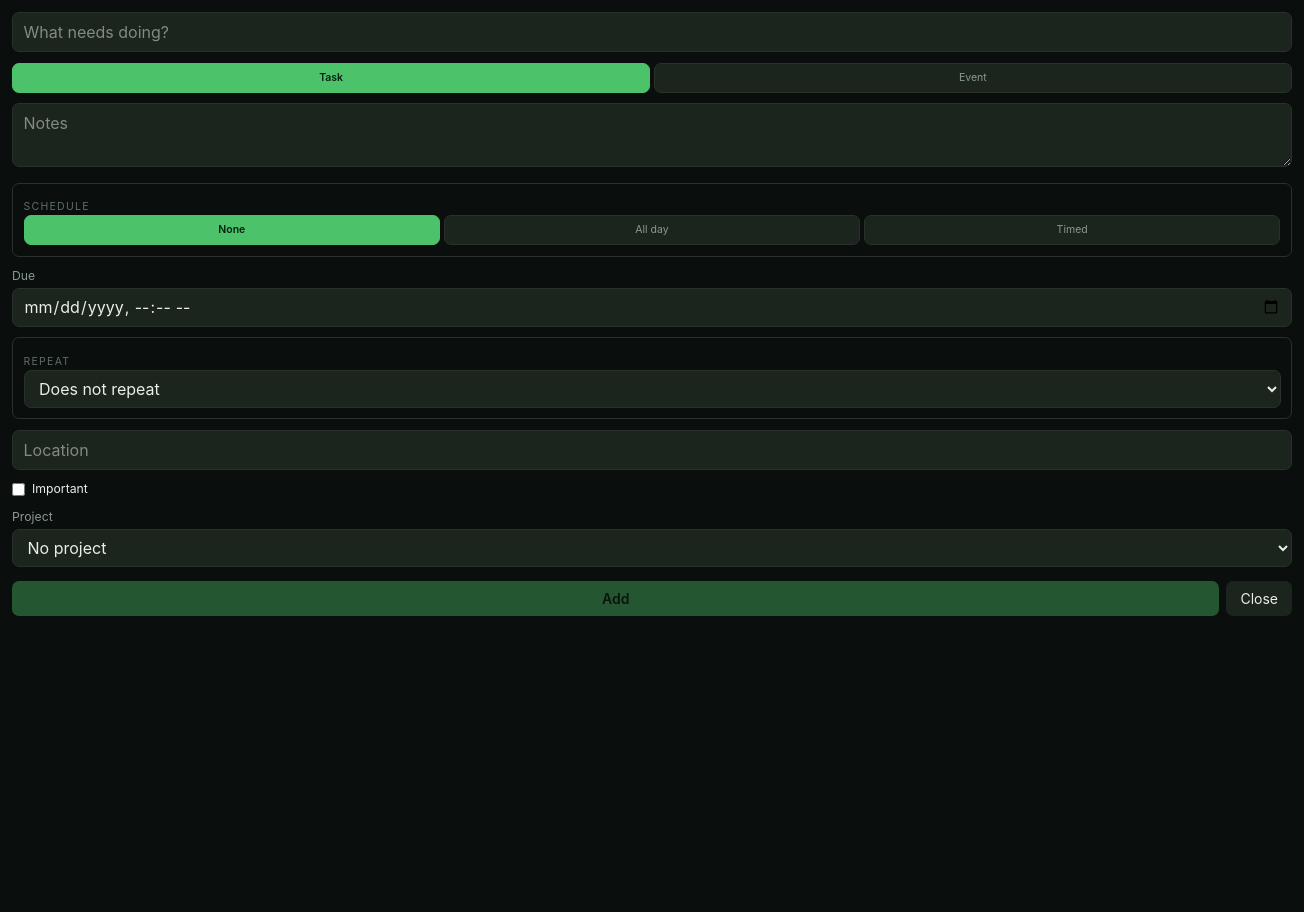
Test: the validation backstop is still there › refuses a rule once the date is cleared again
Step 1. Type "Take the bins out" into the field with placeholder "What needs doing?" → (652, 32), box [12,12,1292,52]
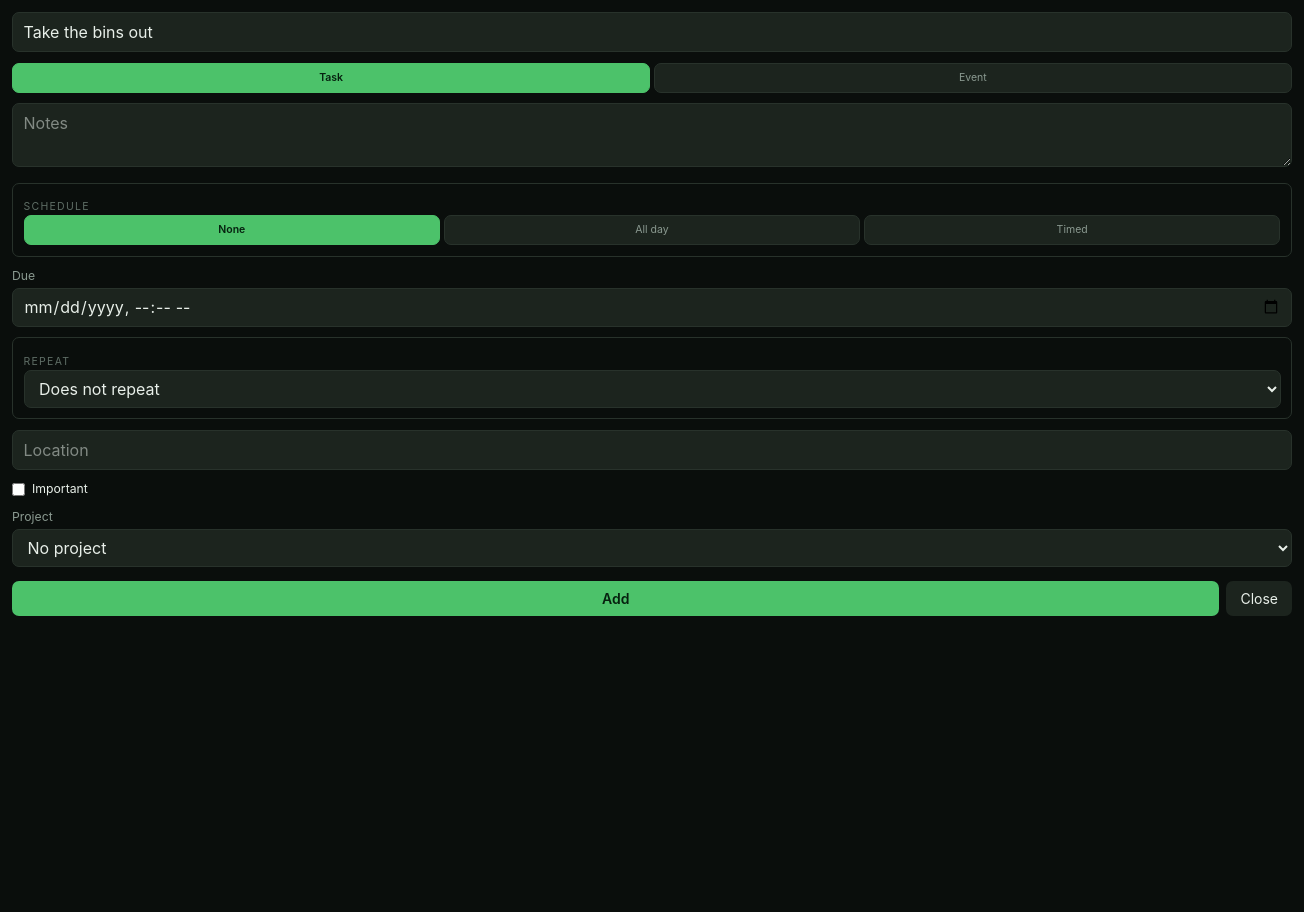
Step 2. Select "Every day" in the 1st dropdown → (652, 389), box [24,370,1280,408]
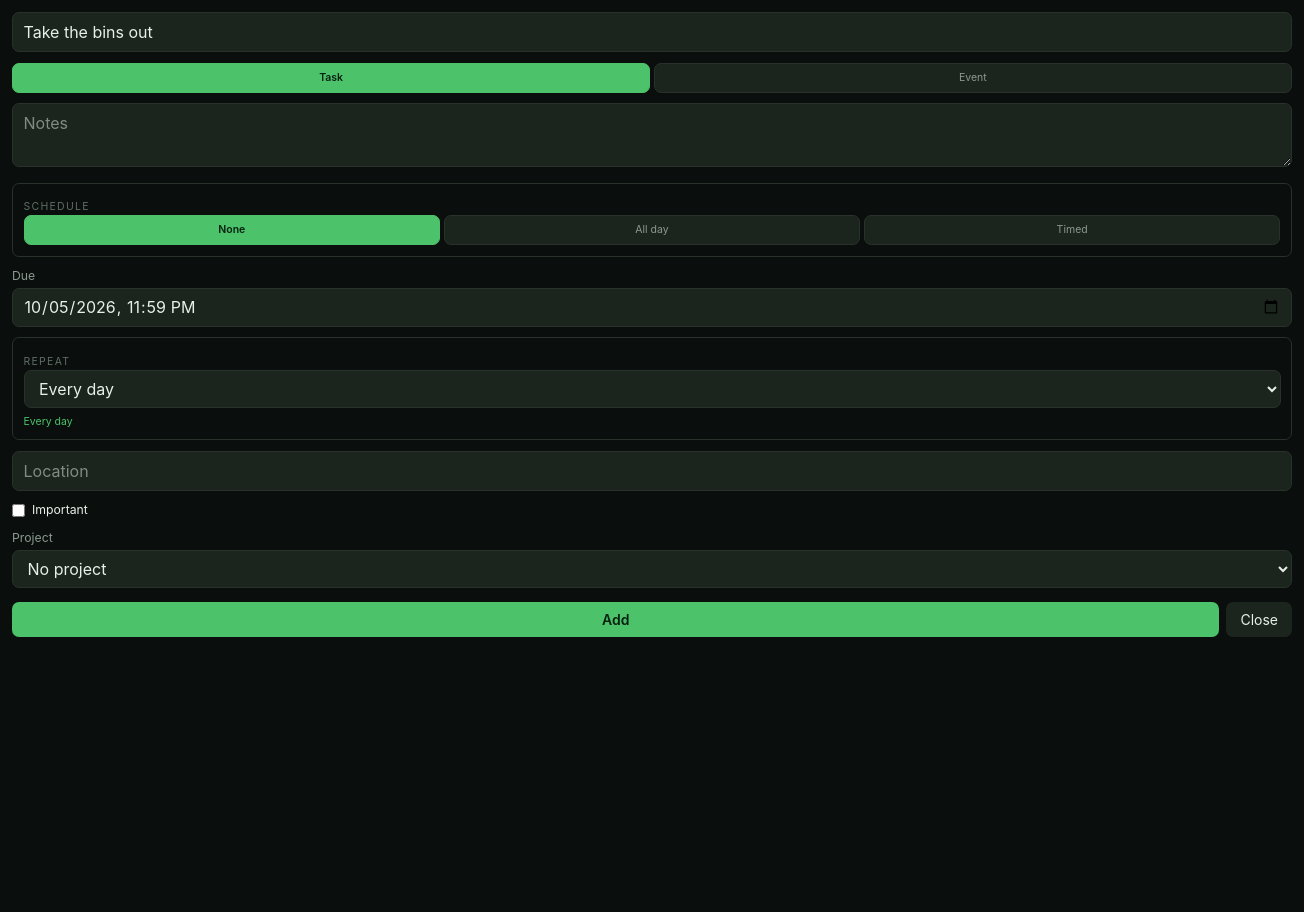
Step 3. Clear the field labelled "Due" → (652, 307), box [12,288,1292,327]
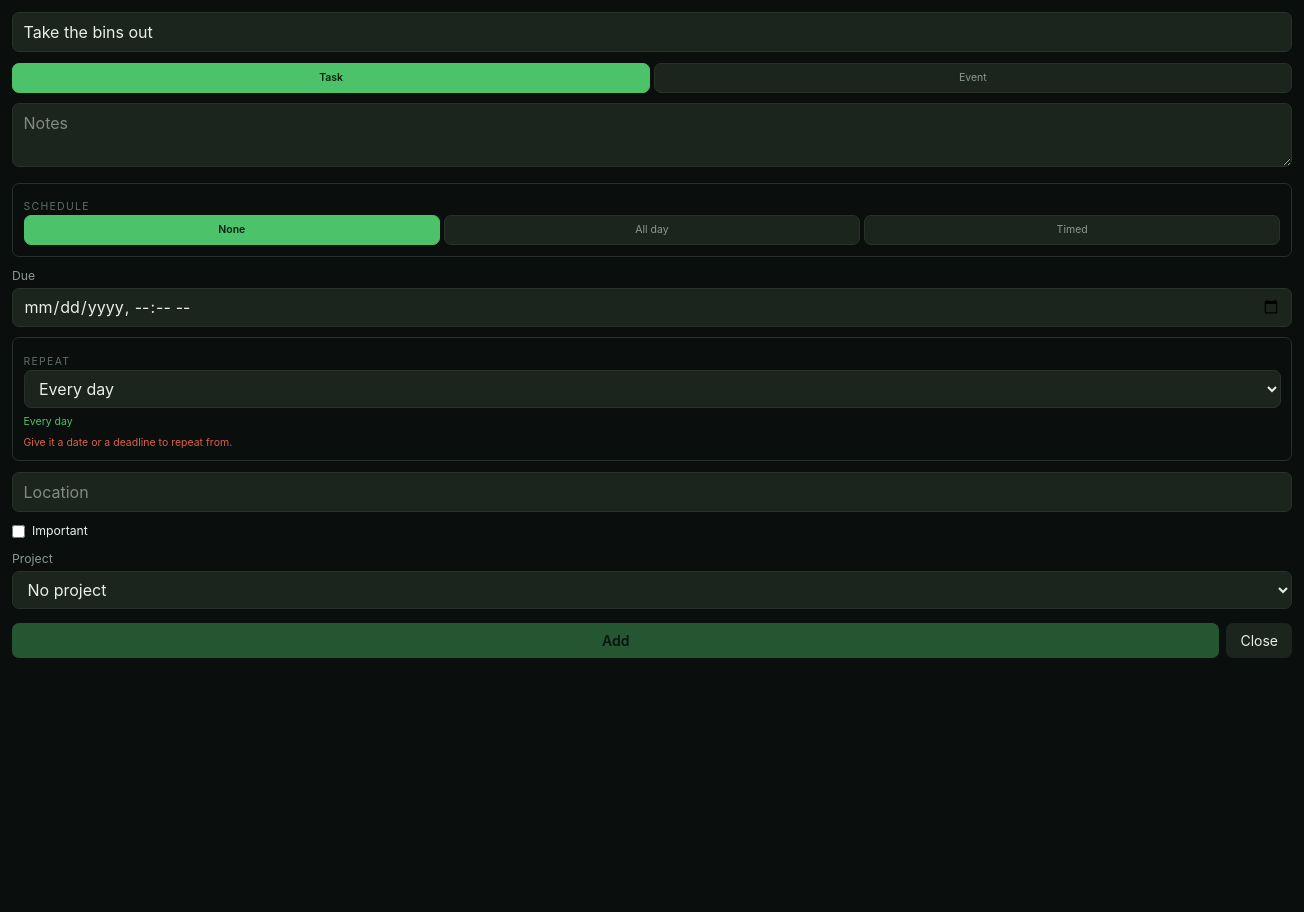
Now the text "Give it a date or a deadline to repeat from." is shown, box [24,436,232,449]
Now the button "Add" is disabled, box [12,623,1219,658]
